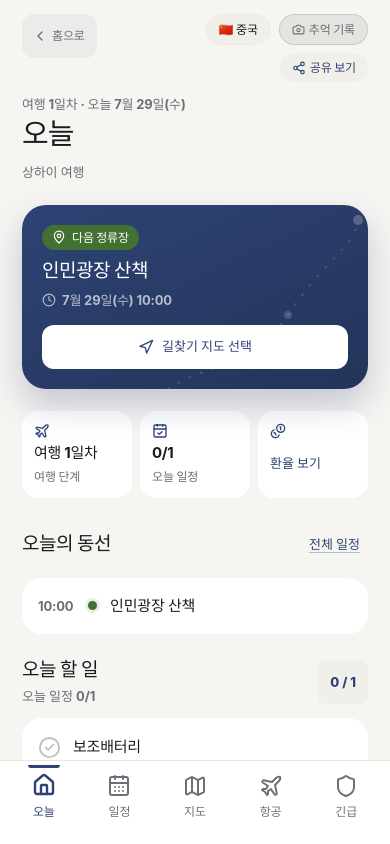
Test: SharedTripPage › 지도와 날짜별 일정을 실제 여행 메뉴에서 전환한다
Click the button "지도": (195, 798) [157, 770, 233, 825]
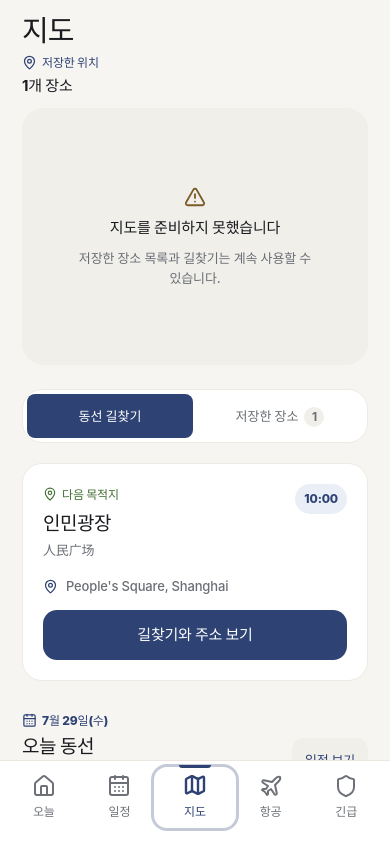
Check: the element named "저장 장소 지도" is shown, box [22, 53, 368, 365]
Check: the text "人民广场" is shown, box [43, 542, 94, 558]
Click the button "일정": (119, 798) [82, 770, 157, 825]
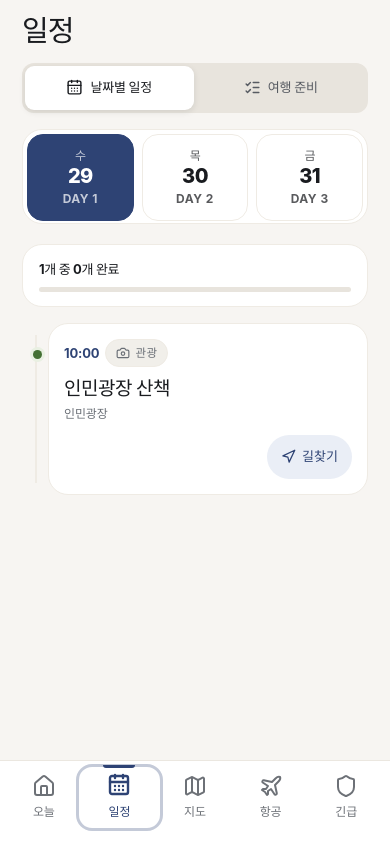
Check: the heading "일정" is shown, box [22, 14, 73, 49]
Click the button with aria-label "7/30(목)": (195, 178) [142, 134, 248, 221]
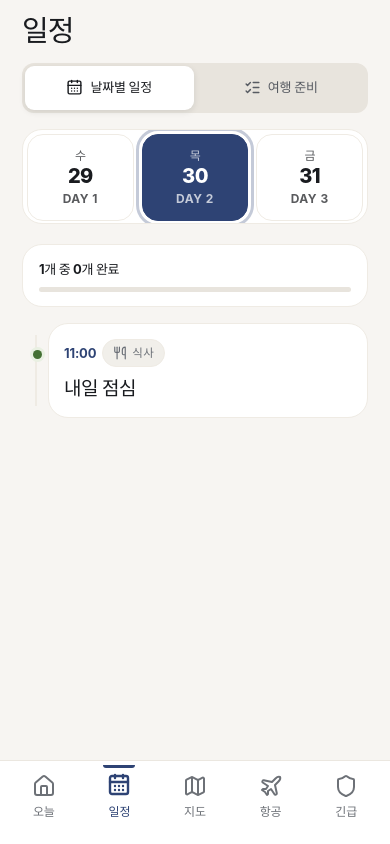
Check: the heading "내일 점심" is shown, box [64, 377, 136, 400]
